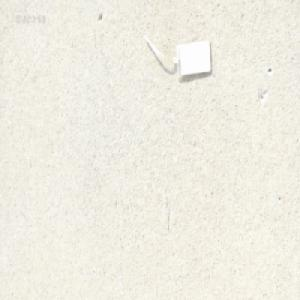LuggageTag: (141, 35, 214, 81)
